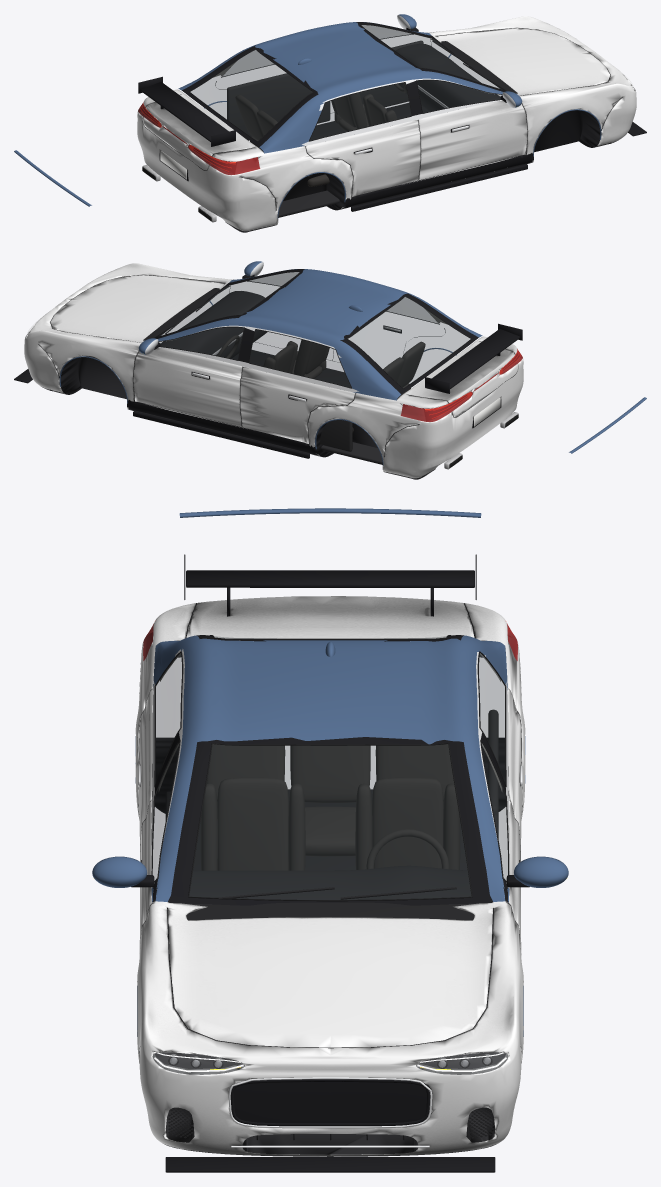
File: sedan.lod2.glb
3 renders of one model, top to bottom at view 1: azimuth 30°, elevation 25°; view 2: azimuth 150°, elevation 25°; view 3: azimuth 270°, elevation 25°, orthographic. The views are drawn at different scales.
Parts seen in each view (by area): view 1: body_mesh, interior_mesh, aero_wing_mesh, aero_skirts_mesh; view 2: body_mesh, interior_mesh, aero_wing_mesh, aero_skirts_mesh; view 3: body_mesh, interior_mesh, grille_ev_mesh, aero_wing_mesh, aero_splitter_mesh, aero_lip_spoiler_mesh.001.
Boxes of the visible parts, box(x1,y1,x2,y2) form: body_mesh: box(137, 14, 636, 232); interior_mesh: box(213, 40, 500, 217); aero_wing_mesh: box(138, 76, 235, 146); aero_skirts_mesh: box(321, 103, 527, 211); body_mesh: box(24, 261, 523, 479); interior_mesh: box(160, 291, 447, 464); aero_wing_mesh: box(425, 323, 522, 393); aero_skirts_mesh: box(133, 350, 336, 458); body_mesh: box(92, 596, 568, 1156); interior_mesh: box(158, 653, 502, 954); grille_ev_mesh: box(233, 1082, 429, 1123); aero_wing_mesh: box(184, 554, 476, 616); aero_splitter_mesh: box(165, 1157, 495, 1172); aero_lip_spoiler_mesh.001: box(179, 508, 481, 517).
Size of the model in its own units: 6.32 by 1.32 by 2.34.
Materials: 30 (1 with a texture image).
